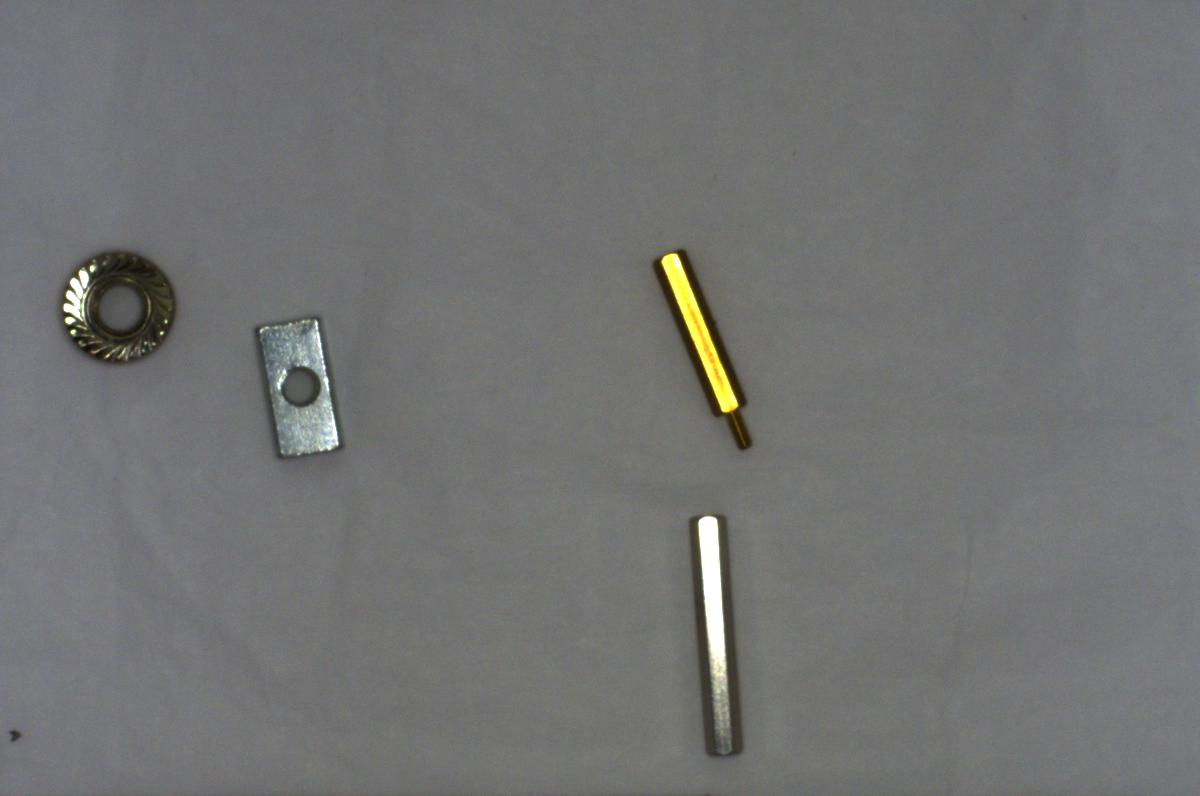Double hexagonal column: (674, 506, 752, 767)
Flange nut: (48, 239, 184, 370)
Hexagon pillar: (638, 243, 773, 456)
Rectangular nut: (244, 302, 344, 465)
